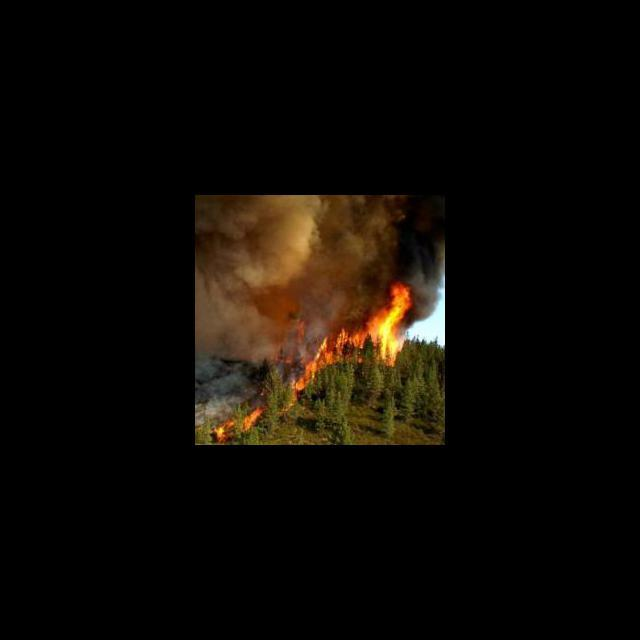Fire: (277, 283, 410, 415), (208, 414, 234, 443), (243, 406, 261, 431)
